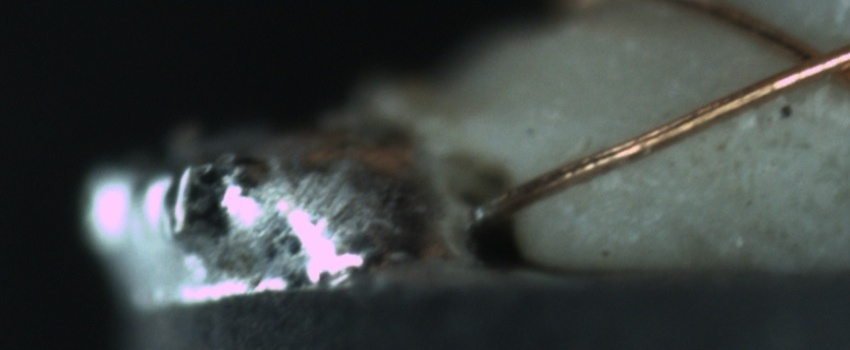CL: (765, 26, 849, 93)
